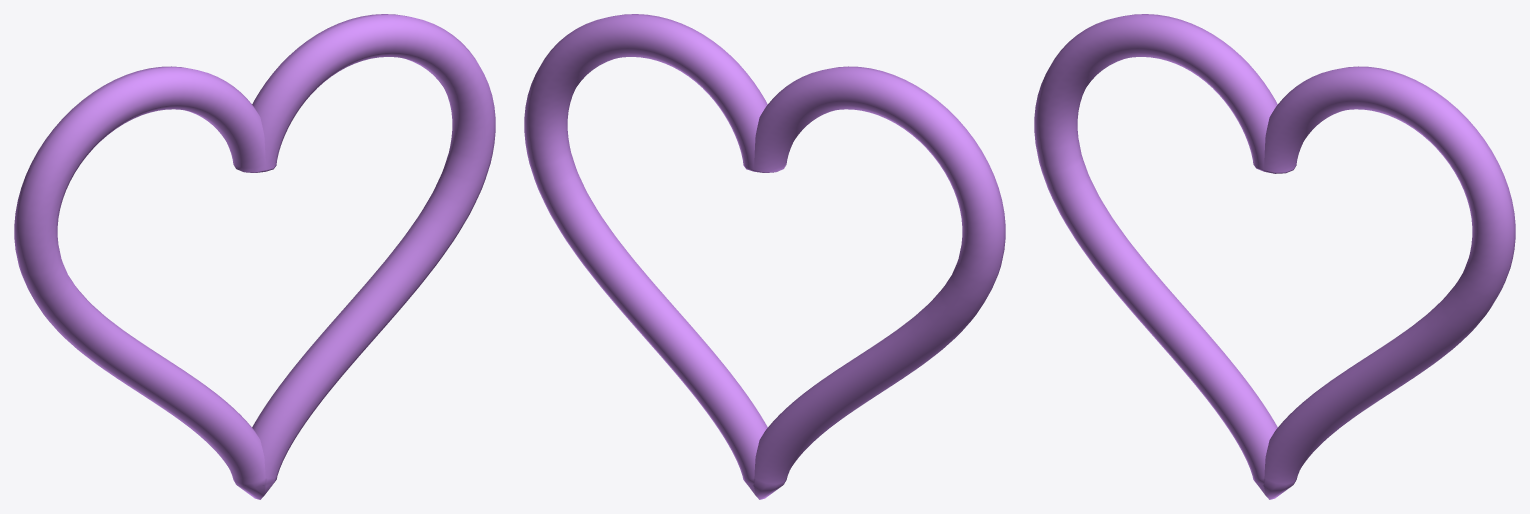
The model's file is heart-BAkO14lc.glb.
The picture shows the model from 3 angles, left to right: view 1: azimuth 30°, elevation 25°; view 2: azimuth 150°, elevation 25°; view 3: azimuth 330°, elevation 25°; orthographic projection.
Visible parts, largest first — view 1: R3D_heart_Body_0; view 2: R3D_heart_Body_0; view 3: R3D_heart_Body_0.
Part boxes in pixels (x1,y1,x2,y2): R3D_heart_Body_0: (14,14,495,499); R3D_heart_Body_0: (524,14,1005,499); R3D_heart_Body_0: (1034,14,1515,499).
Size of the model in its own units: 2.28 by 2.08 by 0.18.
